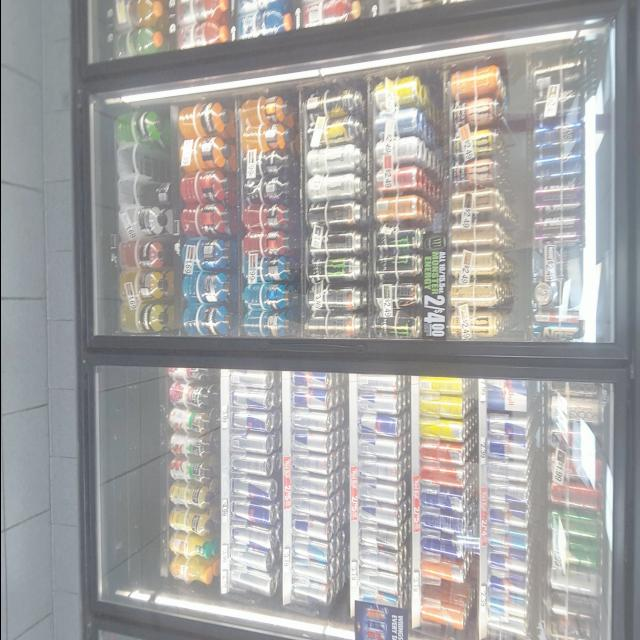empty_space: (124, 147, 163, 171), (124, 180, 160, 200), (421, 590, 457, 602)
